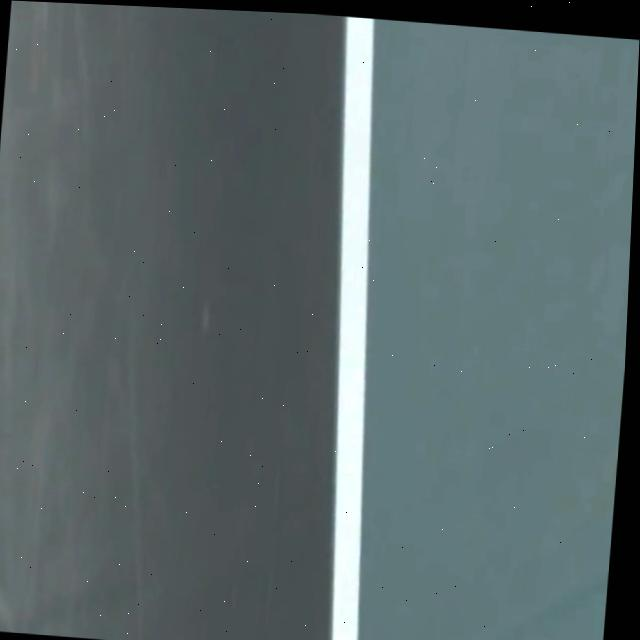left: (331, 16, 375, 640)
